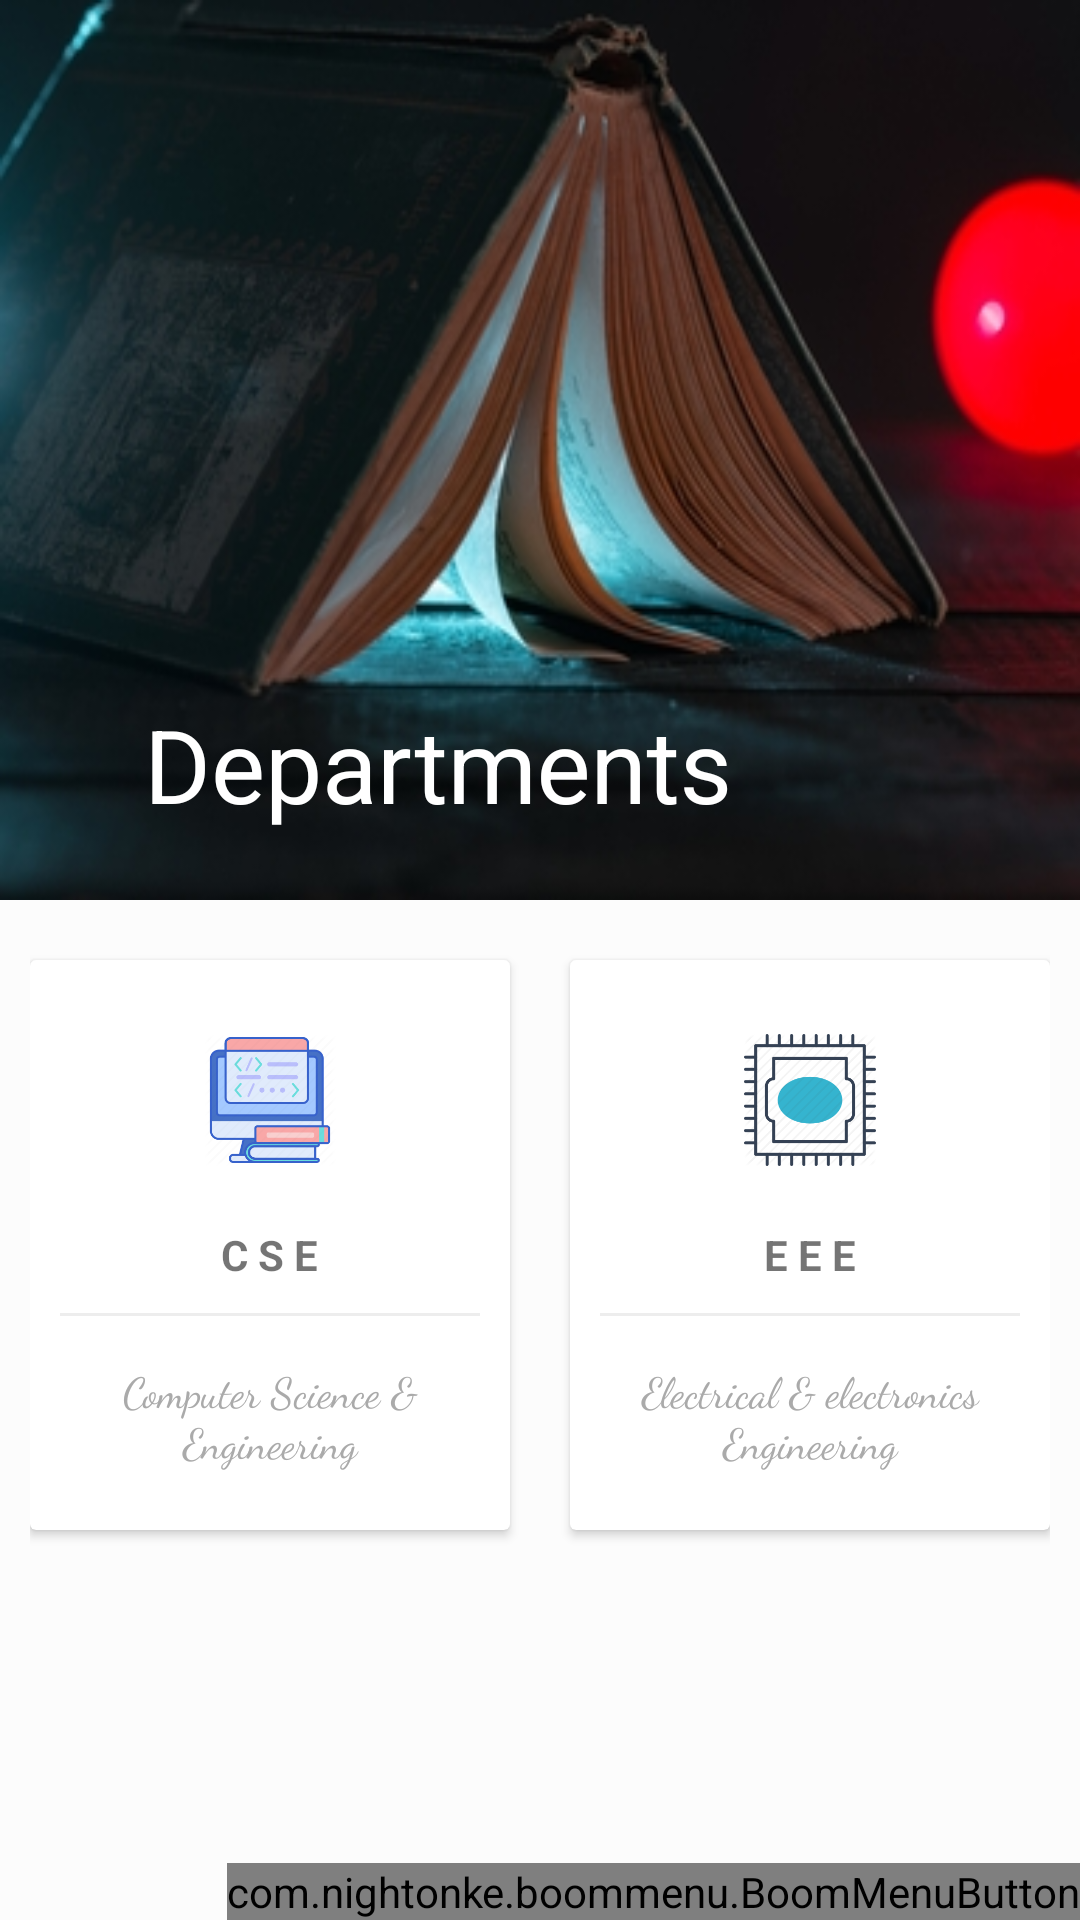

Icons on this 1080 x 1920 Android screen, each with the point to tap as [x,y]:
cse: [270,1100]
eee: [810,1100]
